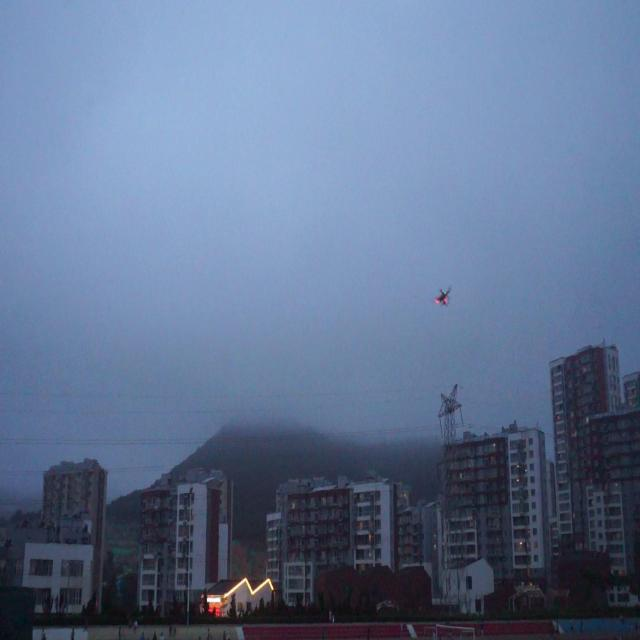drone: (430, 285, 454, 308)
